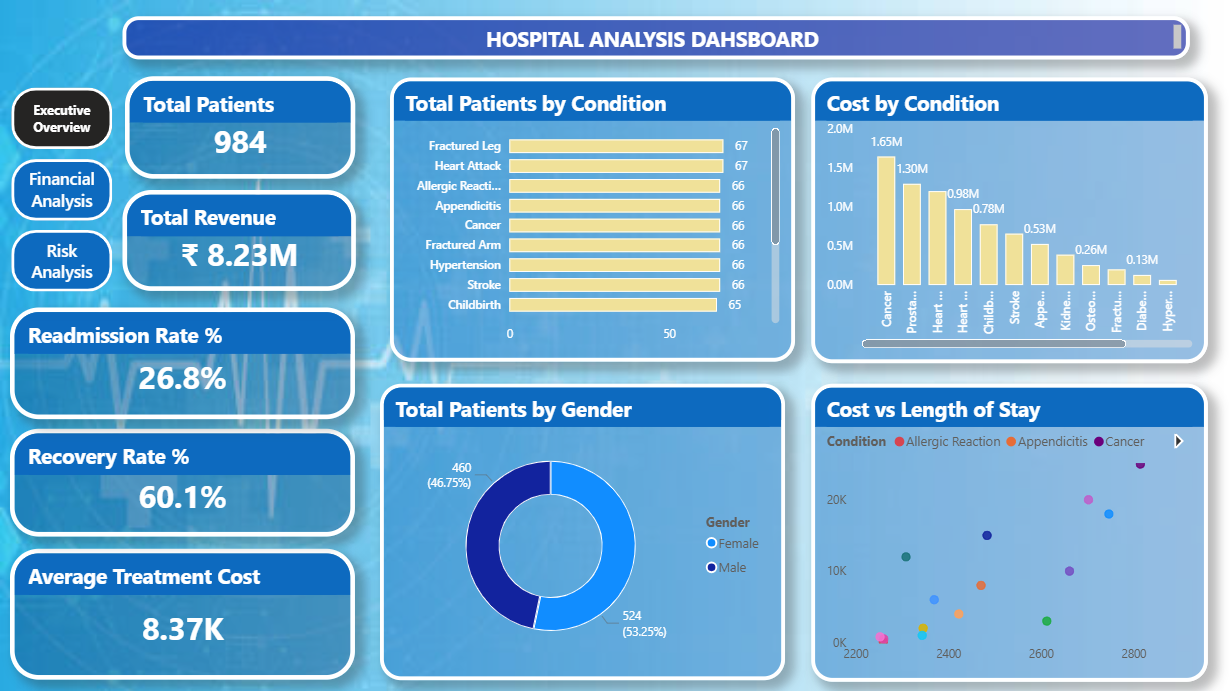

This screenshot's page, from the dashboard's own definition file:
{"tool":"powerbi","page":{"name":"Executive Overview","canvas":[1280,720],"ordinal":0},"visuals":[{"type":"textbox","box":[126.7,17.3,1108.8,44.6],"z":0},{"type":"card","title":"Total Patients","fields":{"Values":["Count(hospital data analysis.Patient_ID)"]},"box":[129.6,79.2,239,106.6],"z":1000},{"type":"card","title":"Total Revenue ","fields":{"Values":["Sum(hospital data analysis.Cost)"]},"box":[127.3,197.6,242.5,105],"z":2000},{"type":"card","title":"Average Treatment Cost","fields":{"Values":["hospital data analysis.Average Treatment Cost"]},"box":[10.9,570.6,358.3,136.3],"z":3000},{"type":"card","title":"Recovery Rate % ","fields":{"Values":["hospital data analysis.Recovery Rate %"]},"box":[10.9,445.2,358.3,112.2],"z":4000},{"type":"card","title":"Readmission Rate %","fields":{"Values":["hospital data analysis.Readmission Rate %"]},"box":[10.9,319.7,358.3,115.8],"z":5000},{"type":"clusteredBarChart","fields":{"Category":["hospital data analysis.Condition"],"Y":["hospital data analysis.Total Patients"]},"box":[404.6,80.6,420.5,295.2],"z":6000},{"type":"columnChart","fields":{"Category":["hospital data analysis.Condition"],"Y":["Sum(hospital data analysis.Cost)"]},"box":[842.4,80.6,411.8,296.6],"z":7000},{"type":"donutChart","fields":{"Y":["hospital data analysis.Total Patients"],"Category":["hospital data analysis.Gender"]},"box":[394.6,398.9,420.5,308.2],"z":8000},{"type":"scatterChart","title":"Cost vs Length of Stay","fields":{"Y":["hospital data analysis.Cost"],"Series":["hospital data analysis.Condition"],"X":["Sum(hospital data analysis.Length_of_Stay)"]},"box":[842.4,398.9,411.8,309.6],"z":9000},{"type":"pageNavigator","box":[11.5,90.7,105.1,213.1],"z":10000}]}

Visuals, with their boxes in screenshot pixels (x1, y1, x2, y2), scaled from the page's 1280x720 canvas onto the 1229x691 screenshot:
textbox: 122,17,1186,59
"Total Patients" card: 124,76,354,178
"Total Revenue " card: 122,190,355,290
"Average Treatment Cost" card: 10,548,354,678
"Recovery Rate % " card: 10,427,354,535
"Readmission Rate %" card: 10,307,354,418
clusteredBarChart - hospital data analysis.Condition x hospital data analysis.Total Patients: 388,77,792,361
columnChart - hospital data analysis.Condition x Sum(hospital data analysis.Cost): 809,77,1204,362
donutChart - hospital data analysis.Total Patients x hospital data analysis.Gender: 379,383,783,679
"Cost vs Length of Stay" scatterChart: 809,383,1204,680
pageNavigator: 11,87,112,292
